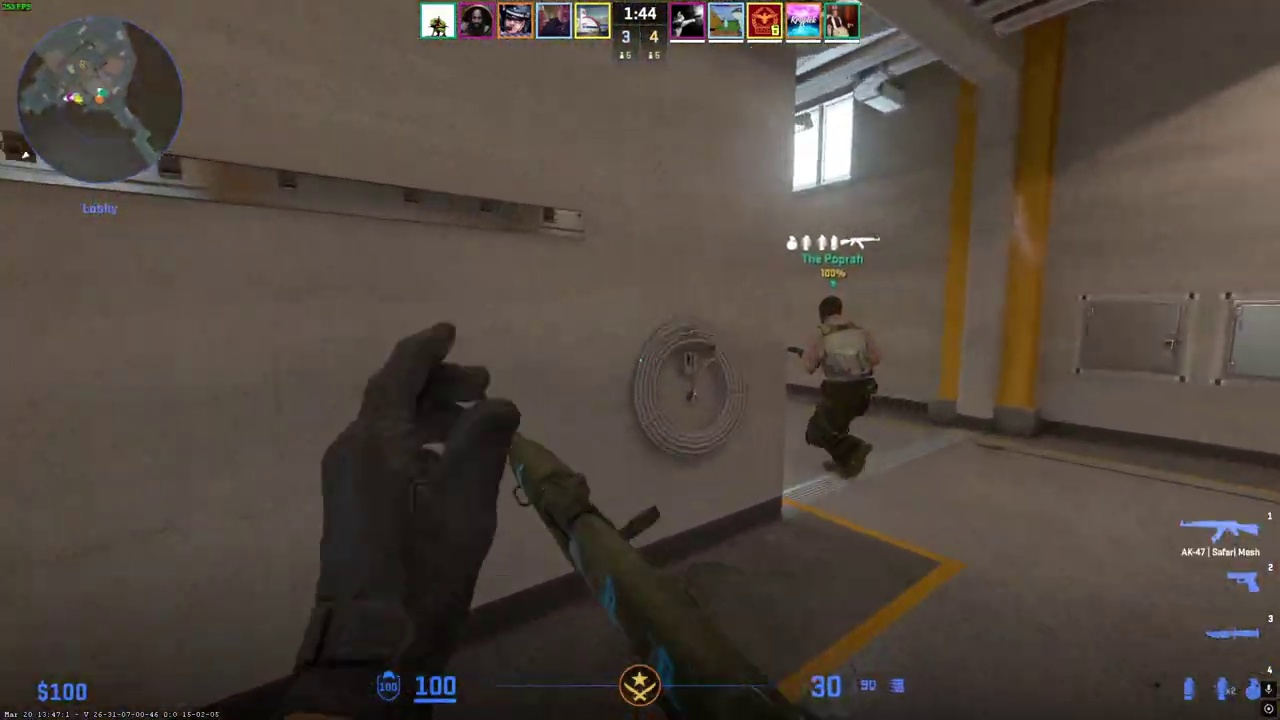Terrorist: (799, 294, 882, 480)
